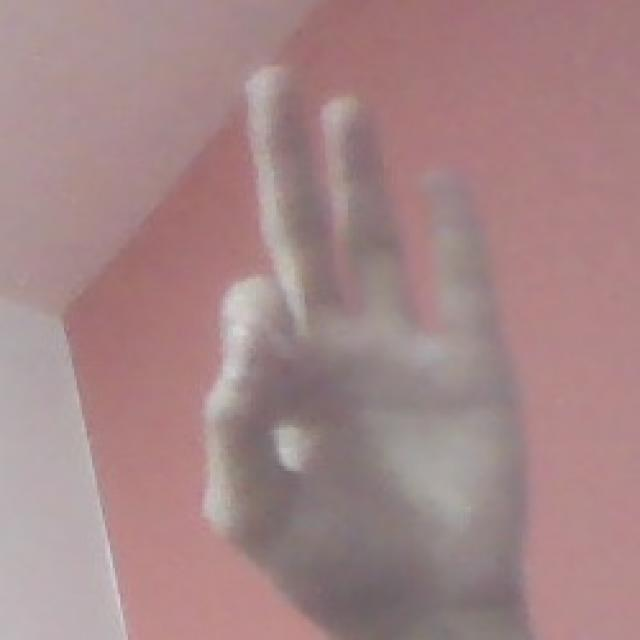Numeric-9: (202, 62, 529, 614)
